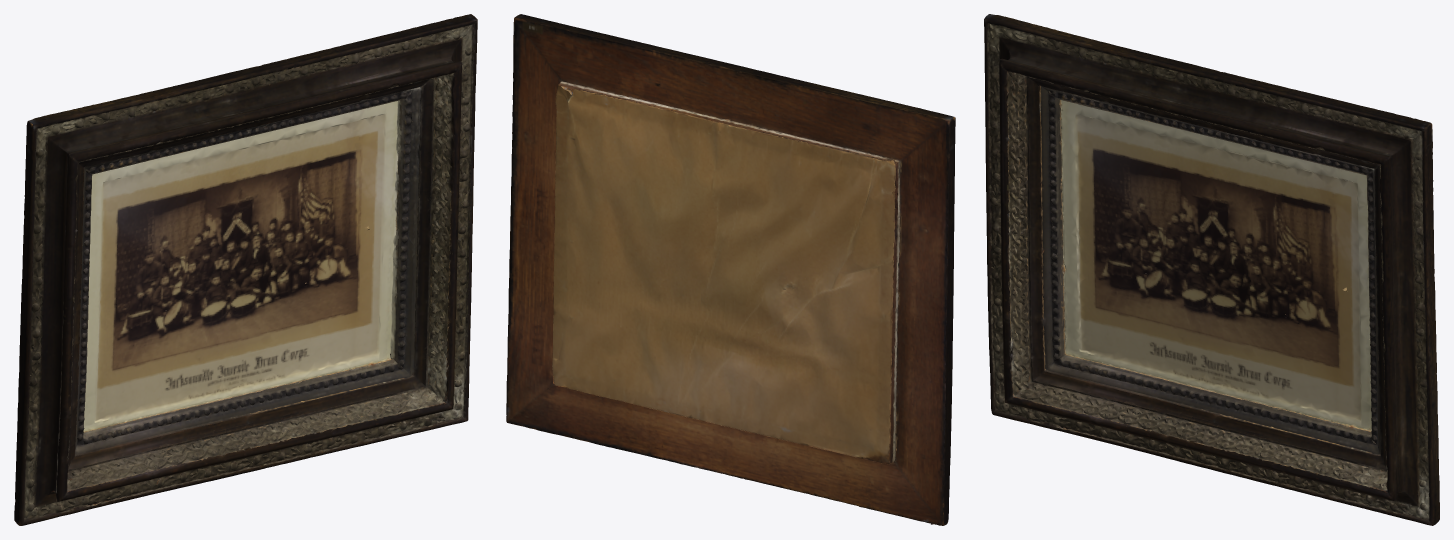
Rendered from custom_1786484990417_539274491.glb.
3 views of the same model, side by side, from view 1: azimuth 30°, elevation 25°; view 2: azimuth 150°, elevation 25°; view 3: azimuth 330°, elevation 25° (orthographic). The views are drawn at different scales.
Visible parts, largest first — view 1: Object_2; view 2: Object_2; view 3: Object_2.
Part boxes in pixels (bbox=[...]): Object_2: bbox=[14, 14, 477, 525]; Object_2: bbox=[506, 14, 955, 525]; Object_2: bbox=[984, 14, 1439, 525].
Size of the model in its own units: 611 by 535 by 76.64.
Materials: 1 (1 with a texture image).
